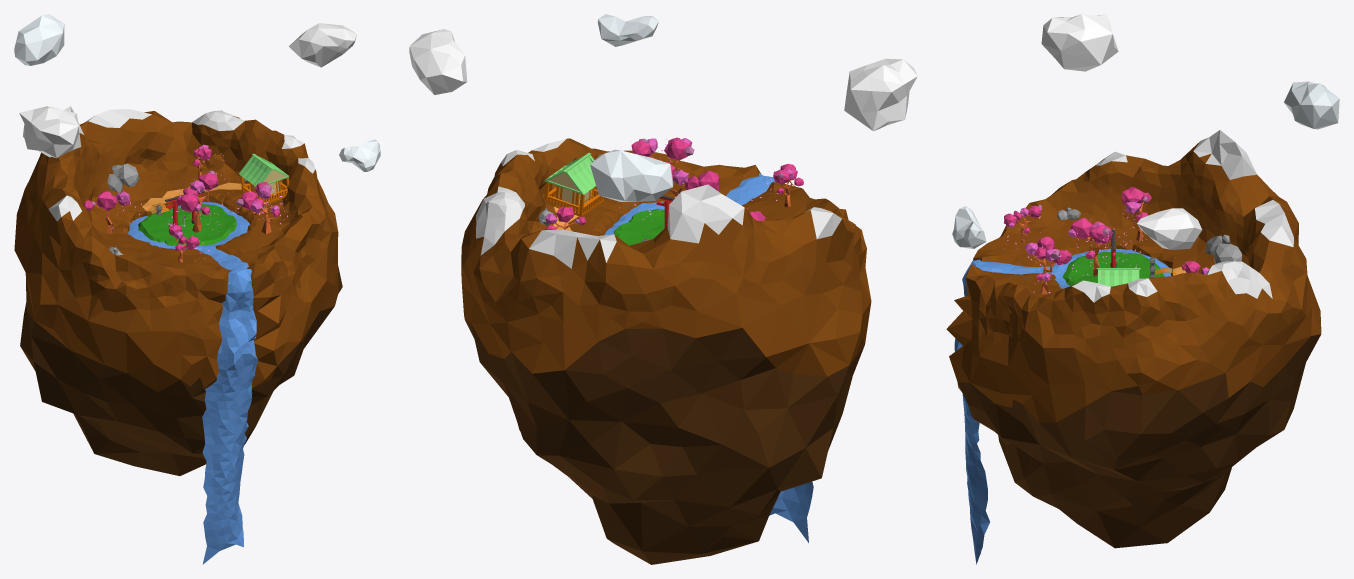
File: CentralIsland.glb
3 renders of one model, left to right at view 1: azimuth 30°, elevation 25°; view 2: azimuth 150°, elevation 25°; view 3: azimuth 270°, elevation 25°, orthographic. The views are drawn at different scales.
Visible parts, largest first — view 1: Isla, Agua, Icosphere.001, Hojas, Icosphere, Icosphere.002, Casa, Hojas.001, Icosphere.003, Roca; view 2: Isla, Icosphere.001, Icosphere, Icosphere.002, Agua, Hojas, Icosphere.003, Casa, Hojas.001, Cube.001; view 3: Isla, Agua, Icosphere.001, Hojas, Icosphere, Icosphere.002, Icosphere.003, Hojas.001, Roca, Casa.
Part boxes in pixels (x1,y1,x2,y2): Isla: (14, 106, 342, 475); Agua: (128, 202, 258, 564); Icosphere.001: (19, 106, 81, 158); Hojas: (83, 144, 280, 250); Icosphere: (14, 14, 64, 65); Icosphere.002: (289, 23, 356, 67); Casa: (239, 153, 288, 186); Hojas.001: (176, 170, 218, 214); Icosphere.003: (339, 139, 380, 171); Roca: (107, 163, 139, 192); Isla: (461, 138, 871, 564); Icosphere.001: (844, 58, 917, 131); Icosphere: (590, 149, 673, 201); Icosphere.002: (409, 29, 467, 94); Agua: (604, 173, 813, 542); Hojas: (545, 137, 803, 229); Icosphere.003: (597, 14, 658, 46); Casa: (544, 152, 595, 194); Hojas.001: (664, 161, 719, 196); Cube.001: (544, 182, 603, 216); Isla: (946, 130, 1321, 548); Agua: (954, 248, 1171, 564); Icosphere.001: (1041, 14, 1118, 71); Hojas: (1004, 186, 1209, 281); Icosphere: (1284, 81, 1339, 129); Icosphere.002: (1137, 208, 1201, 249); Icosphere.003: (952, 206, 986, 248); Hojas.001: (1068, 218, 1112, 259); Roca: (1205, 234, 1241, 263); Casa: (1096, 268, 1140, 286).
Bounding box in the file's own units: 1406 × 1665 × 1225.
